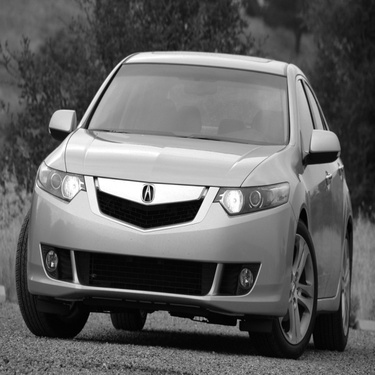car: (8, 41, 359, 360)
